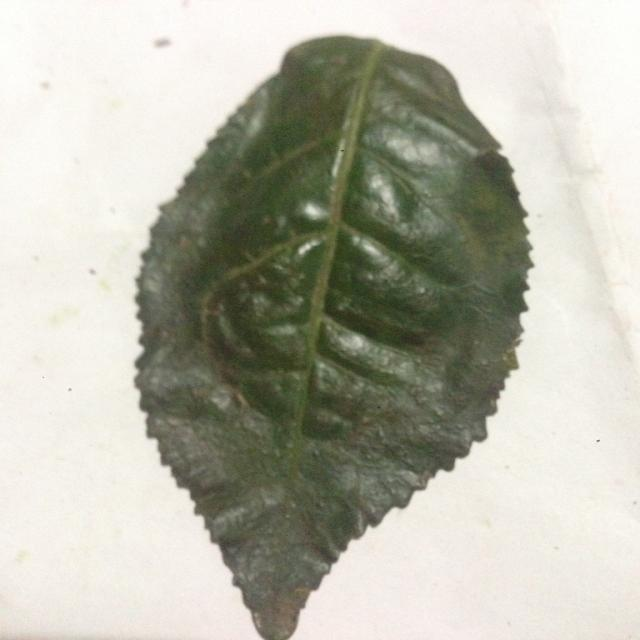Red Leaf Spot: (117, 32, 564, 640)
